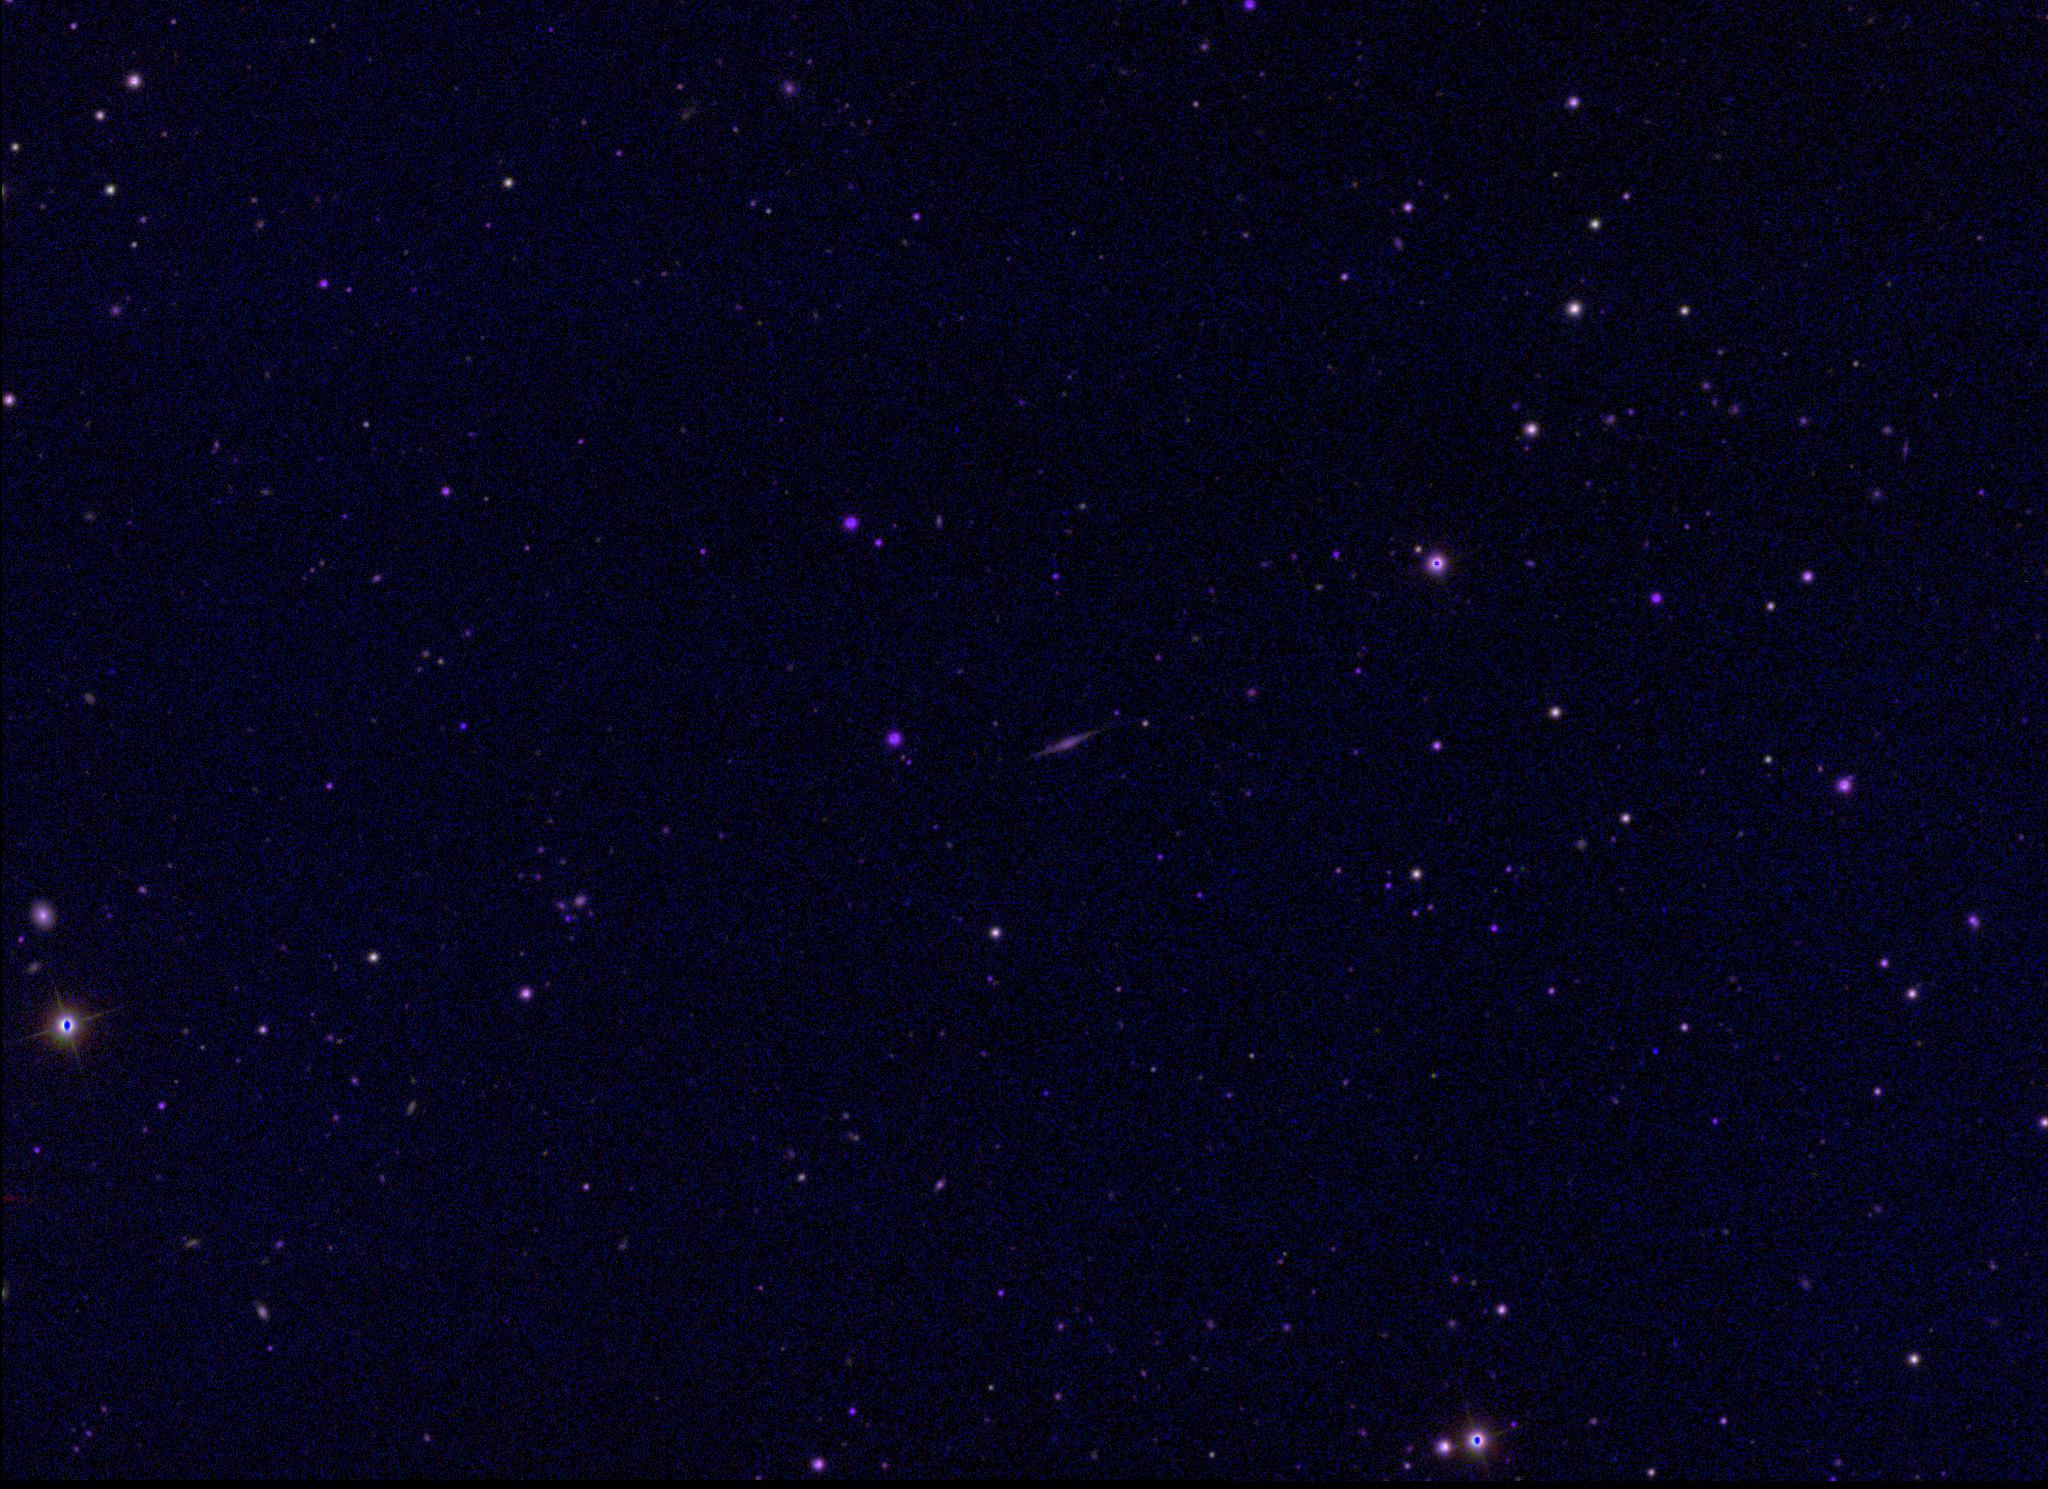L: (1650, 1044, 1665, 1056)
